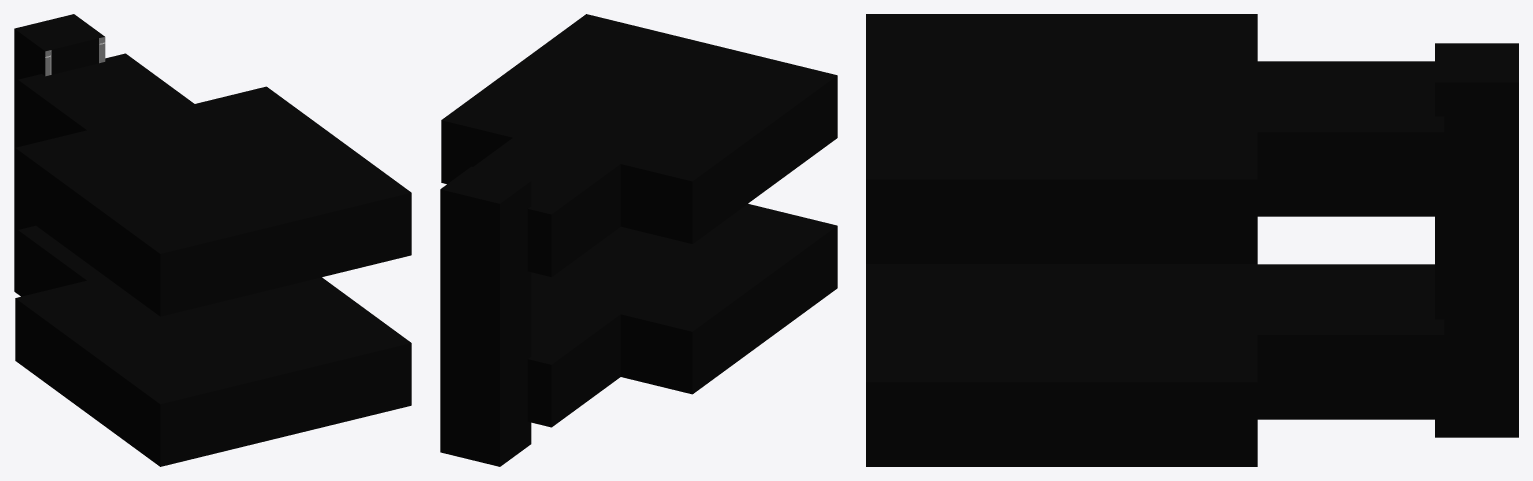
The model's file is DemoRoomLrg.dae.
The picture shows the model from 3 angles, left to right: view 1: azimuth 30°, elevation 25°; view 2: azimuth 150°, elevation 25°; view 3: azimuth 270°, elevation 25°; orthographic projection. The views are drawn at different scales.
Visible parts, largest first — view 1: DemoRoomLrg_5c1b8cbb; view 2: DemoRoomLrg_5c1b8cbb; view 3: DemoRoomLrg_5c1b8cbb.
Boxes of the visible parts, x1,y1,x2,y2 form: DemoRoomLrg_5c1b8cbb: (14,14,411,466); DemoRoomLrg_5c1b8cbb: (440,14,837,466); DemoRoomLrg_5c1b8cbb: (866,14,1518,466).
Size of the model in its own units: 21 by 35 by 21.
Materials: 4 (4 with a texture image).
